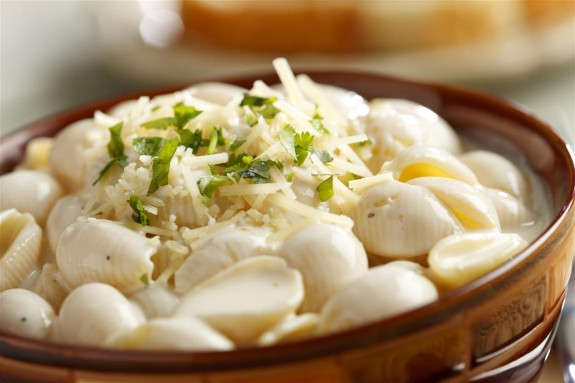macncheese: (1, 67, 537, 349)
